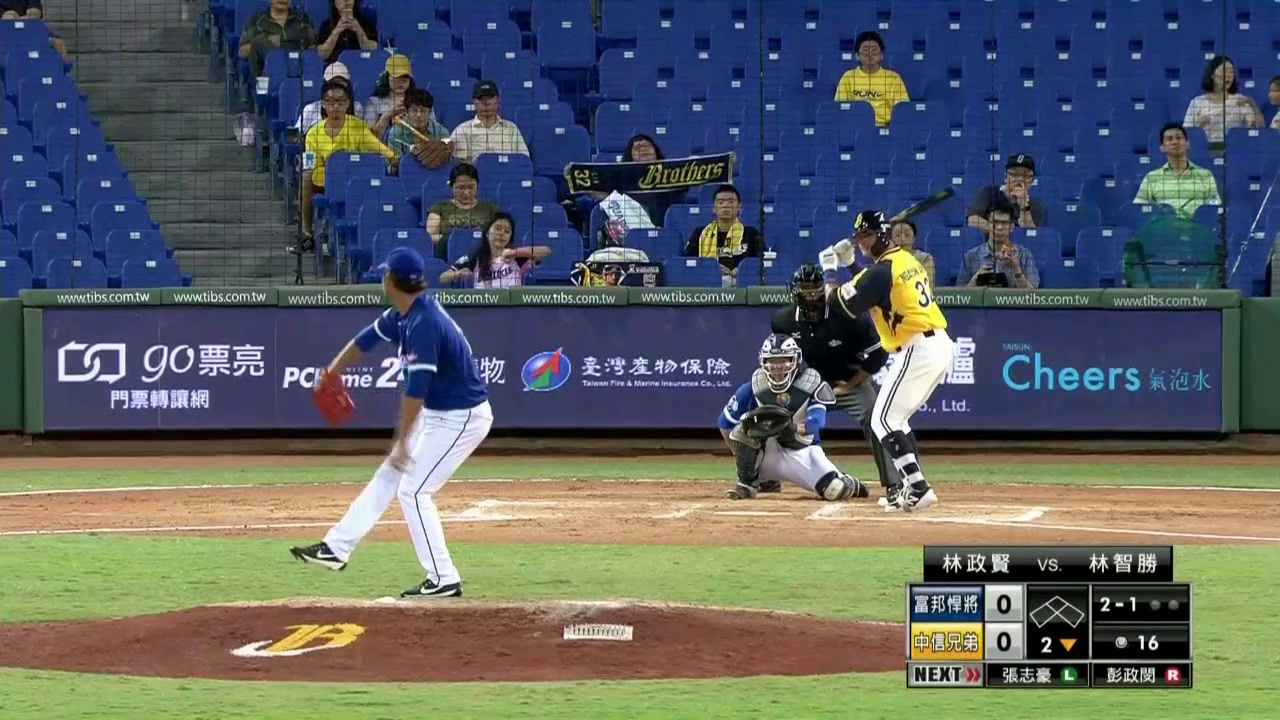ball: (396, 456, 417, 477)
base: (1028, 594, 1086, 629)
bat: (848, 182, 960, 248)
out: (1147, 588, 1186, 618)
score1: (987, 588, 1019, 617)
score2: (987, 625, 1020, 655)
session: (1026, 634, 1089, 656)
strikeball: (1094, 588, 1142, 618)
total: (1093, 631, 1186, 657)
